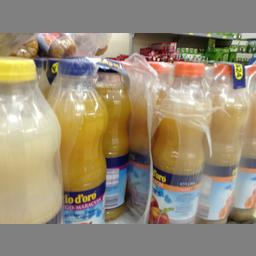juice: (0, 52, 63, 222), (148, 60, 210, 222), (50, 54, 105, 223)
